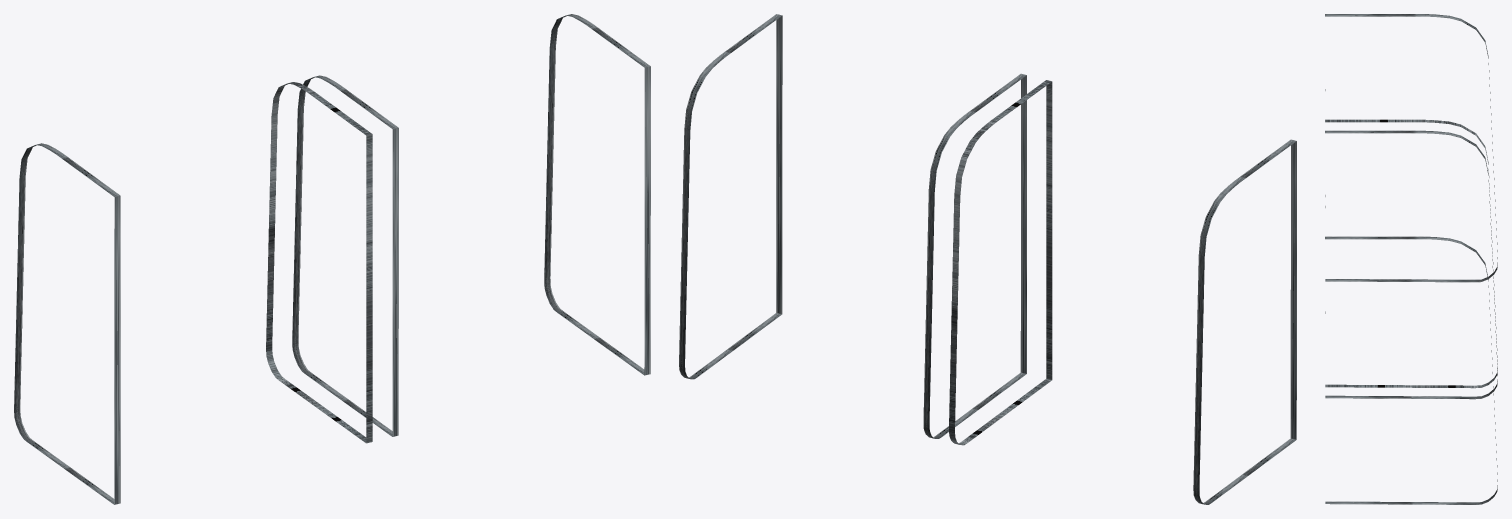
File: store_6.obj
3 views of the same model, side by side, from view 1: azimuth 30°, elevation 25°; view 2: azimuth 150°, elevation 25°; view 3: azimuth 270°, elevation 25° (orthographic). The views are drawn at different scales.
Bounding box in the file's own units: 91.39 × 50.29 × 29.64.
